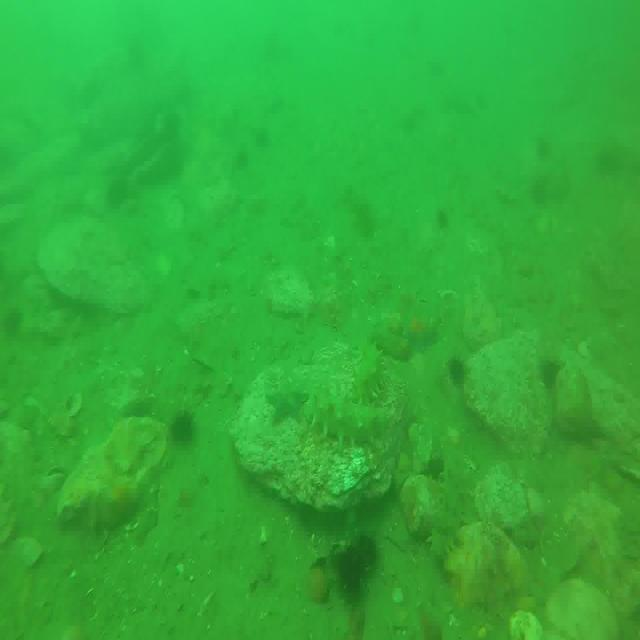echinus: (336, 546, 363, 602), (354, 534, 384, 577), (172, 408, 195, 440), (446, 358, 466, 390)
holothurian: (310, 389, 392, 446), (430, 455, 468, 566), (353, 341, 384, 407)
starfish: (266, 376, 311, 423), (402, 310, 439, 354)
